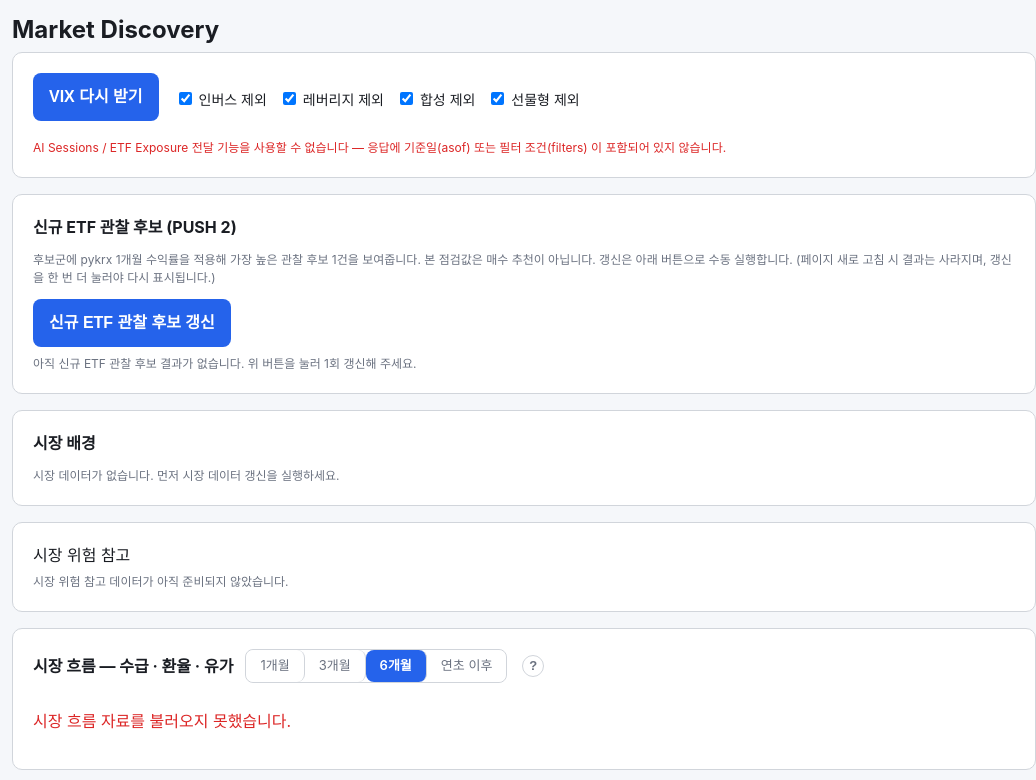
Test: 'VIX 다시 받기' 버튼 (POC5-12) › not_needed 응답은 안내 한 줄 · 표식을 다시 읽어 원래 버튼으로
The image size is (1036, 780).
Click the button "VIX 다시 받기".
click(96, 97)  # box [33,73,159,121]
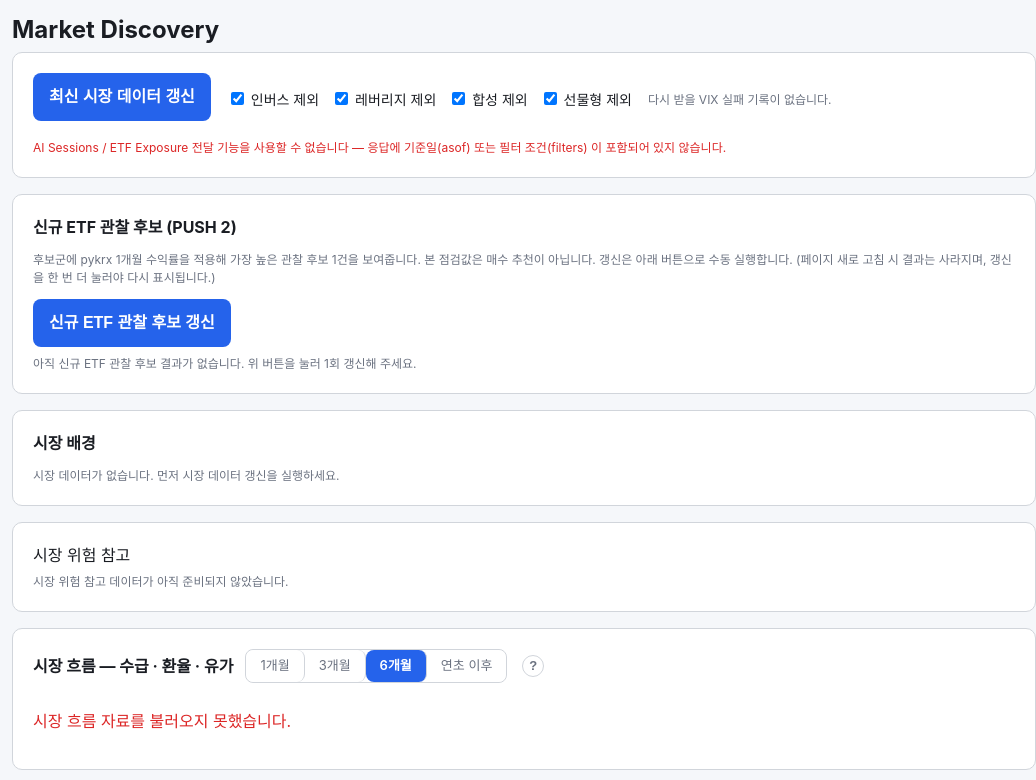
Expected: the text "다시 받을 VIX 실패 기록이 없습니다." is shown, [648,91,832,109]
Expected: the button "최신 시장 데이터 갱신" is shown, [33,73,211,121]
